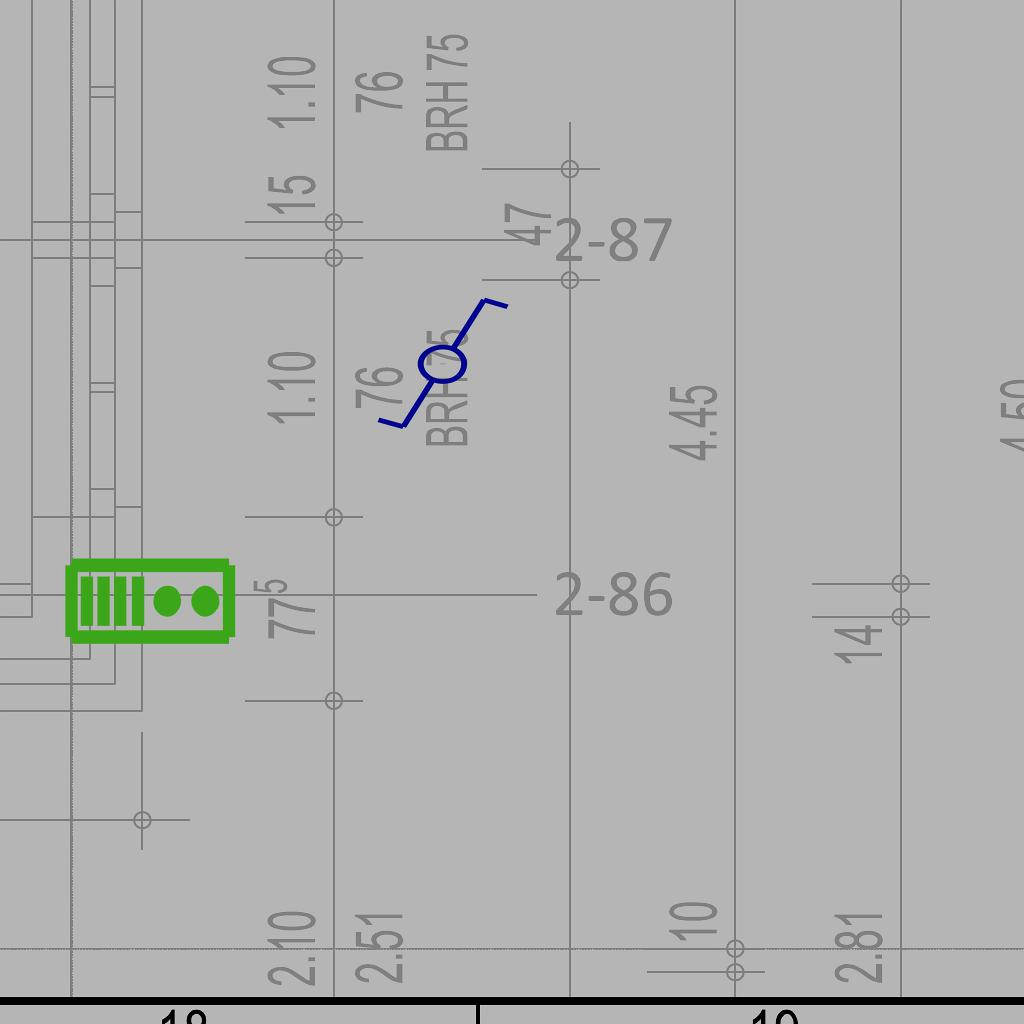Gegensprechanlage_mit_Video: (63, 552, 239, 647)
Wechselschalter: (356, 290, 513, 434)
